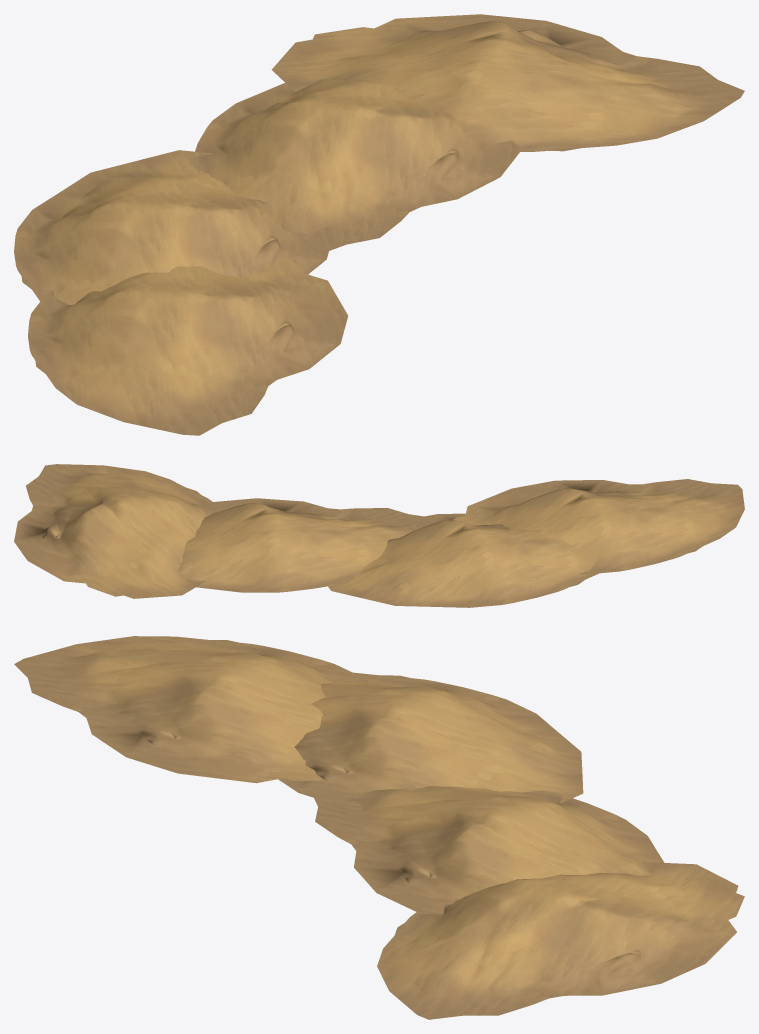
The model's file is Area_14_3.fbx.
3 renders of one model, top to bottom at view 1: azimuth 30°, elevation 25°; view 2: azimuth 150°, elevation 25°; view 3: azimuth 270°, elevation 25°, orthographic. The views are drawn at different scales.
Parts seen in each view (by area): view 1: Area_14_3; view 2: Area_14_3; view 3: Area_14_3.
Part boxes in pixels (left/top/right/bottom): Area_14_3: left=14, top=14, right=744, bottom=435; Area_14_3: left=14, top=464, right=744, bottom=607; Area_14_3: left=14, top=636, right=744, bottom=1019.
Size of the model in its own units: 14231 by 719 by 11456.
Materials: 1 (1 with a texture image).
